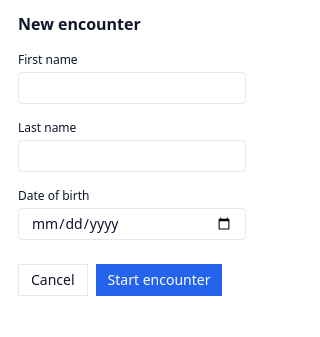
it: StartEncounterPage › rejects a DOB older than 120 years
Type "Jane" into the field labelled "First name" at (132, 88), box x1=18 y1=72 x2=246 y2=104
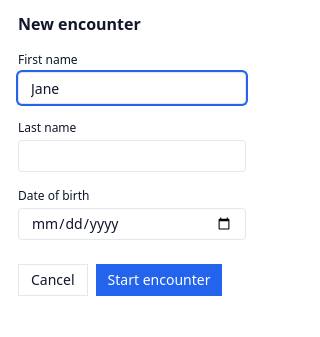
Type "Smith" into the field labelled "Last name" at (132, 156), box x1=18 y1=140 x2=246 y2=172
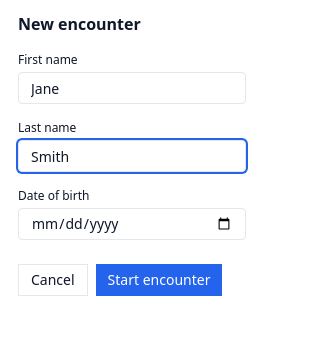
Type "1850-01-01" into the date field labelled "Date of birth" at (132, 224), box x1=18 y1=208 x2=246 y2=240
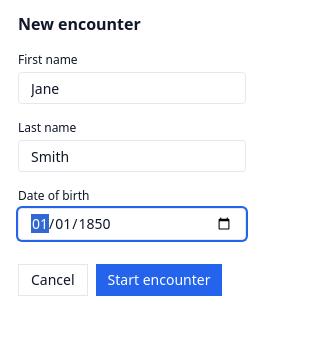
Click the button "Start encounter" at (159, 280), box x1=96 y1=264 x2=222 y2=296
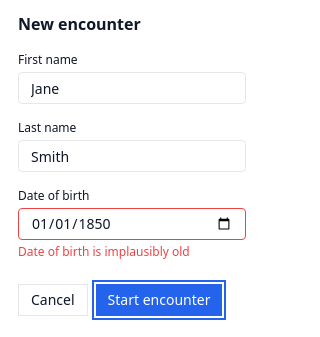
Now the text "Date of birth is implausibly old" is shown, box x1=18 y1=243 x2=190 y2=260
